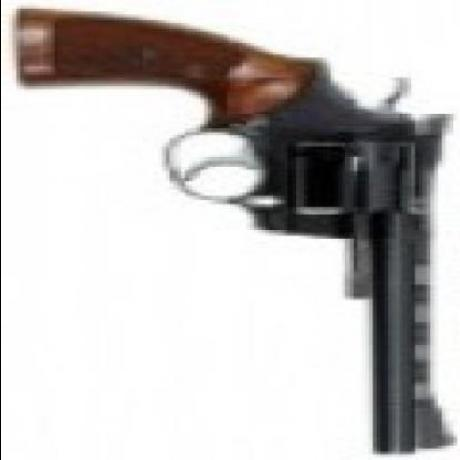weapon: (6, 0, 460, 458)
